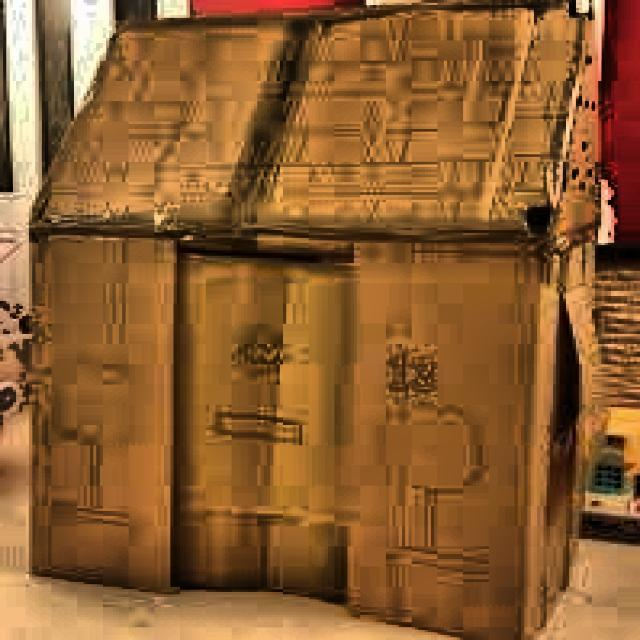cardboard: (26, 0, 608, 637)
